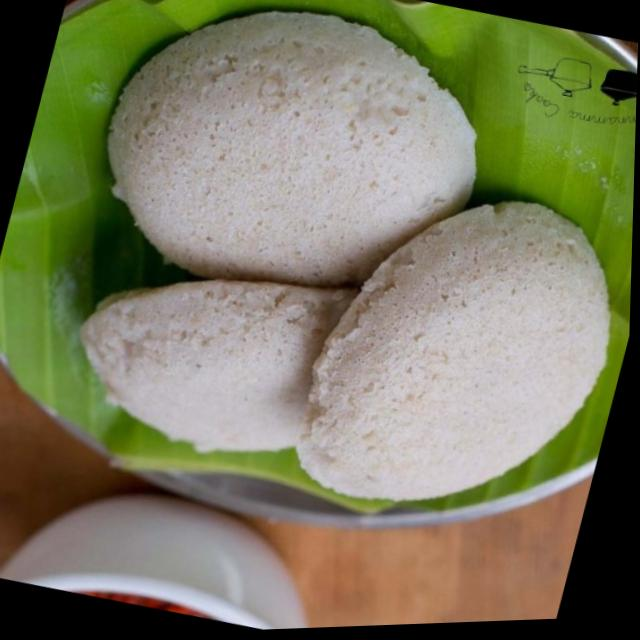IDLI: (82, 11, 610, 498)
